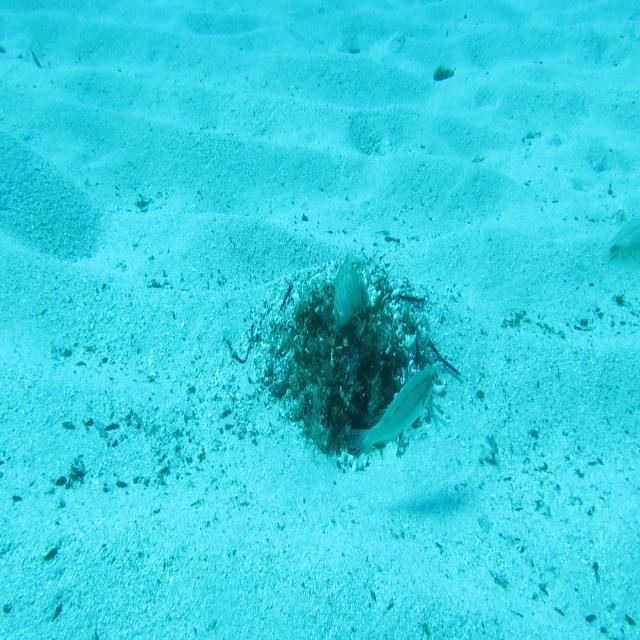NIP_CORE: (331, 249, 370, 332)
core_nest: (322, 308, 367, 355)
female: (346, 361, 439, 473), (599, 211, 640, 276)
nest: (244, 243, 457, 480)
vegetation: (432, 61, 456, 84)
